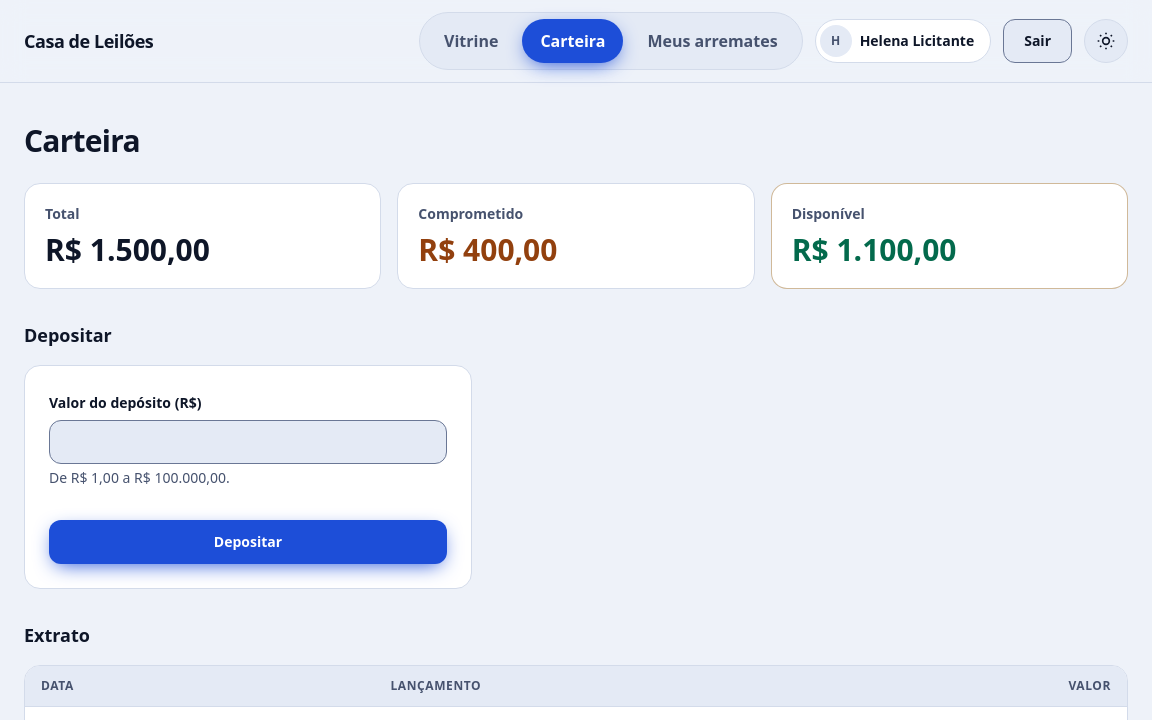
it: /carteira › depósito válido envia centavos, atualiza saldo e extrato e confirma
Step 1. Type "10,5" into the field labelled "Valor do depósito (R$)" → point(248, 442), box 49,420 -> 447,464
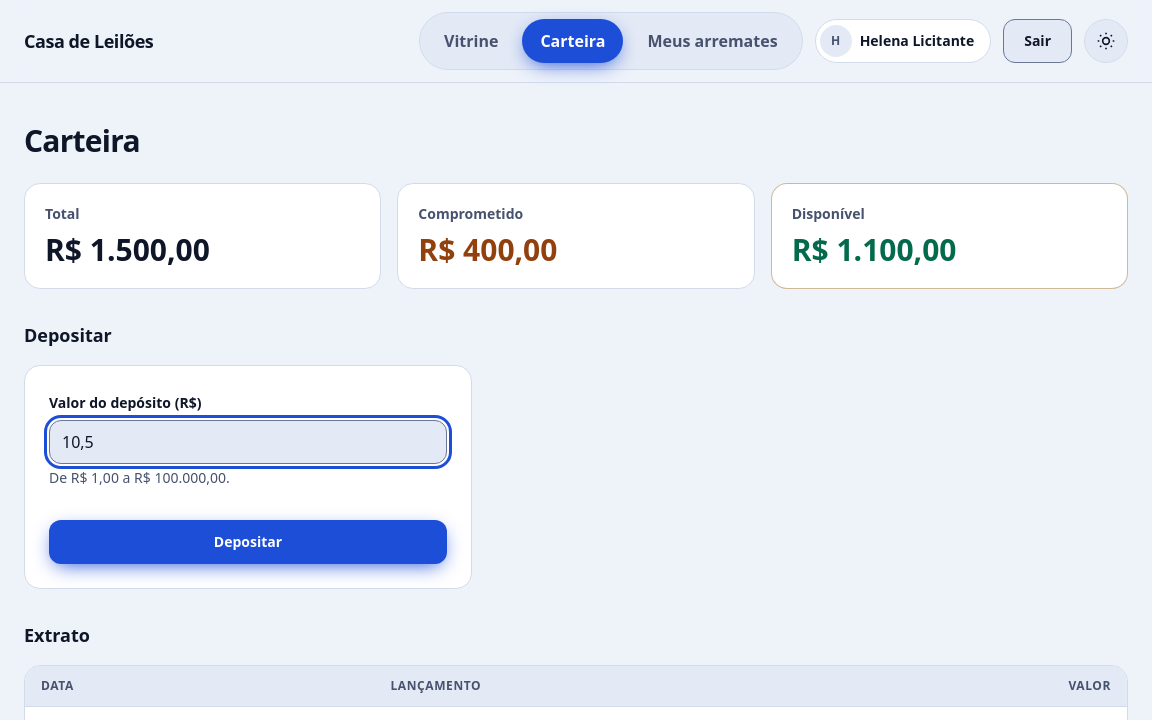
Step 2. Click the button "Depositar" → point(248, 542), box 49,520 -> 447,564
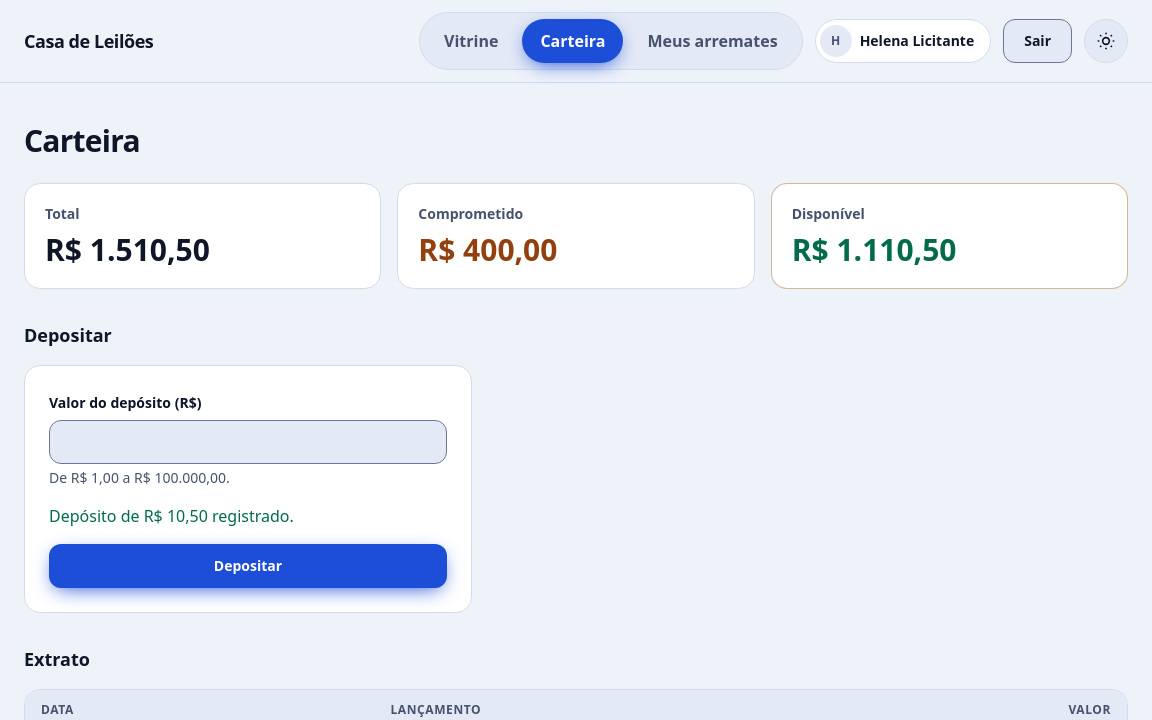
Result: the text "Depósito de R$ 10,50 registrado." is shown at 49,505 -> 294,527
Result: the text "R$ 1.510,50" is shown at 45,229 -> 210,270
